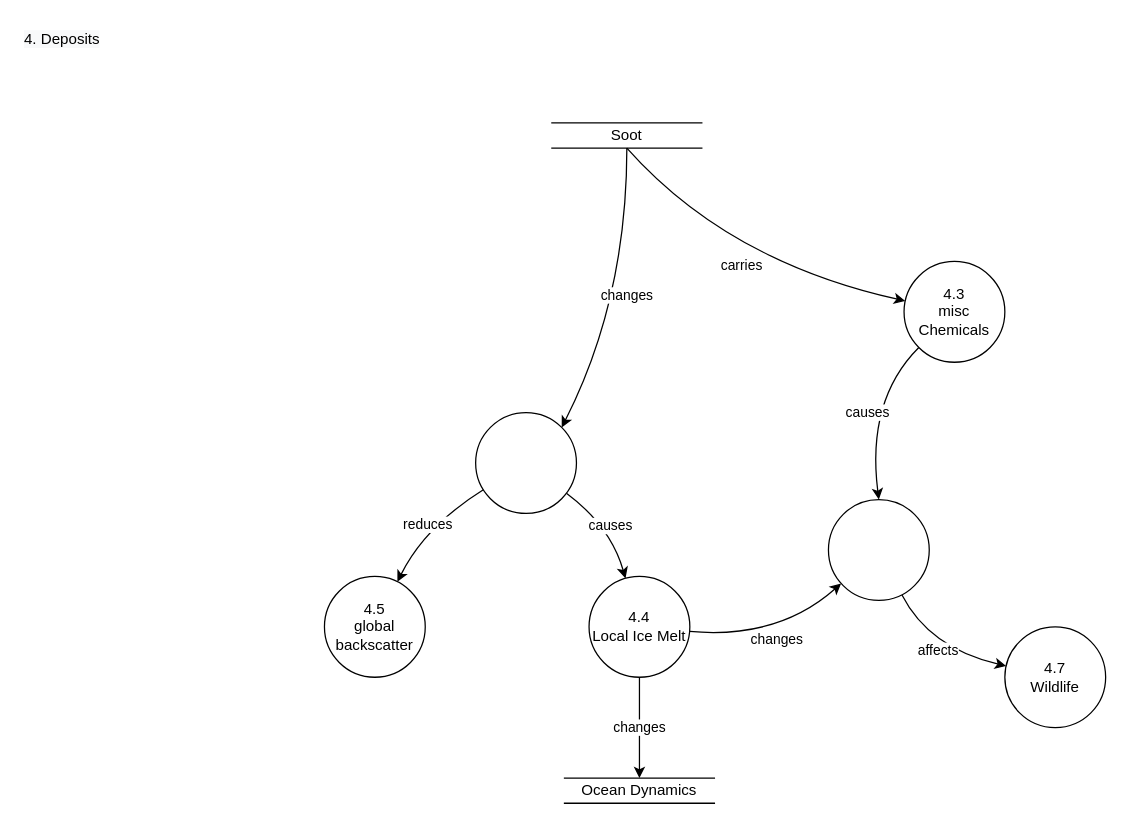
The diagram is 1128 pixels wide and 827 high, and some of its shapes have lost their labels. The shapes that lost their labels are listed below. From the top down, each one's centre as x and y in pixels, then its label:
At point (525, 462): "4.2 Ice Albedo".
At point (878, 549): "4.6 Seawater composition".
